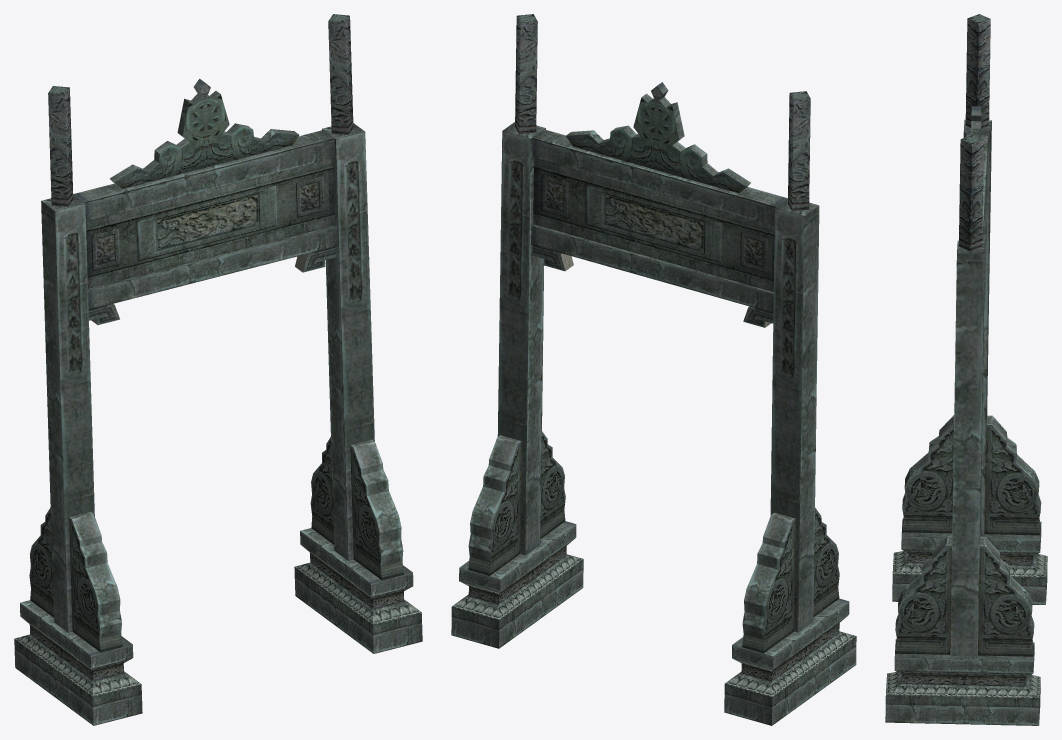
Rendered from ShiXiang06.FBX.
The picture shows the model from 3 angles, left to right: view 1: azimuth 30°, elevation 25°; view 2: azimuth 150°, elevation 25°; view 3: azimuth 270°, elevation 25°; orthographic projection. The views are drawn at different scales.
Visible parts, largest first — view 1: DrawCall_0320, DrawCall_0321; view 2: DrawCall_0320, DrawCall_0321; view 3: DrawCall_0321, DrawCall_0320.
Part boxes in pixels (<box>): DrawCall_0320: <box>14,78,422,725</box>; DrawCall_0321: <box>14,14,421,696</box>; DrawCall_0320: <box>451,82,856,725</box>; DrawCall_0321: <box>452,14,856,696</box>; DrawCall_0321: <box>886,14,1047,697</box>; DrawCall_0320: <box>885,106,1047,725</box>.
Size of the model in its own units: 10.71 by 18.98 by 4.85.
